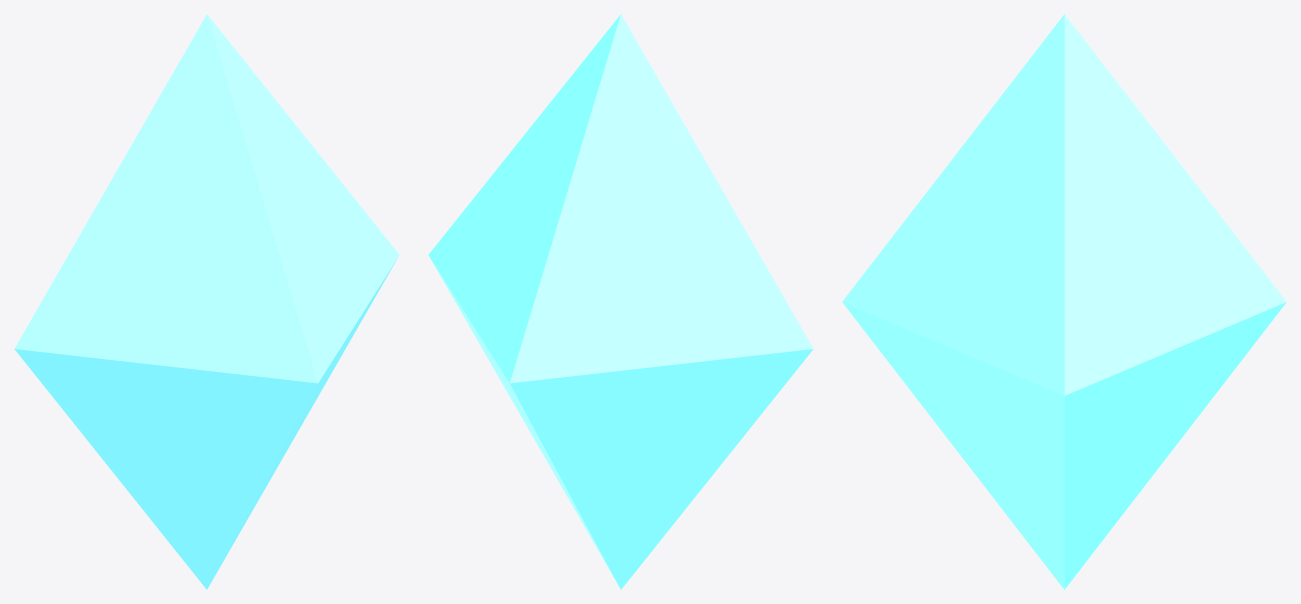
The model's file is beacon.gltf.
The picture shows the model from 3 angles, left to right: view 1: azimuth 30°, elevation 25°; view 2: azimuth 150°, elevation 25°; view 3: azimuth 270°, elevation 25°; orthographic projection.
Parts seen in each view (by area): view 1: Beacon; view 2: Beacon; view 3: Beacon.
Part boxes in pixels (x1=…): Beacon: x1=14, y1=14, x2=399, y2=589; Beacon: x1=428, y1=14, x2=813, y2=589; Beacon: x1=842, y1=14, x2=1286, y2=589.
Bounding box in the file's own units: 1.4 × 2 × 1.4.
